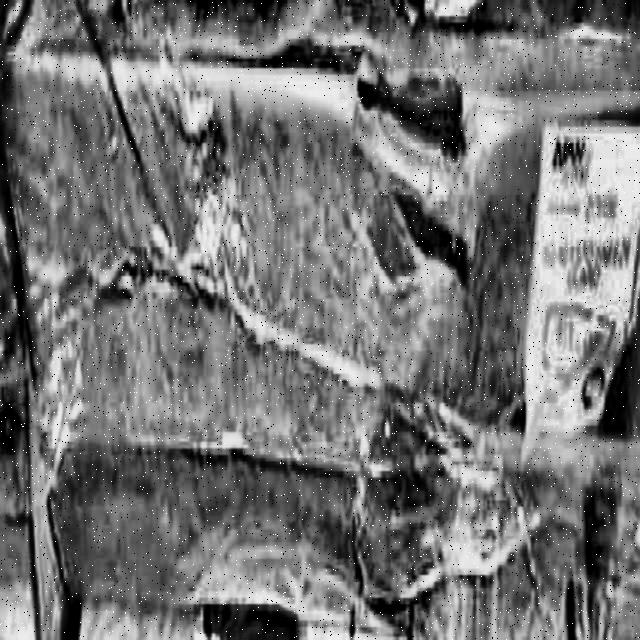box: (0, 0, 639, 625)
hole: (348, 41, 472, 203)
